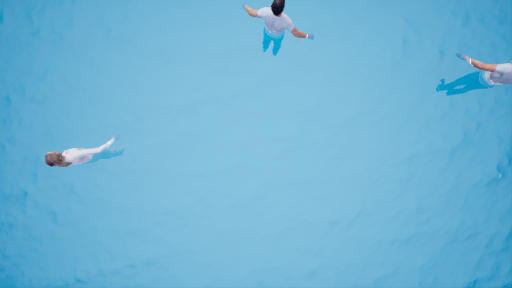person: (234, 1, 323, 62), (437, 47, 512, 103), (36, 139, 139, 173)
